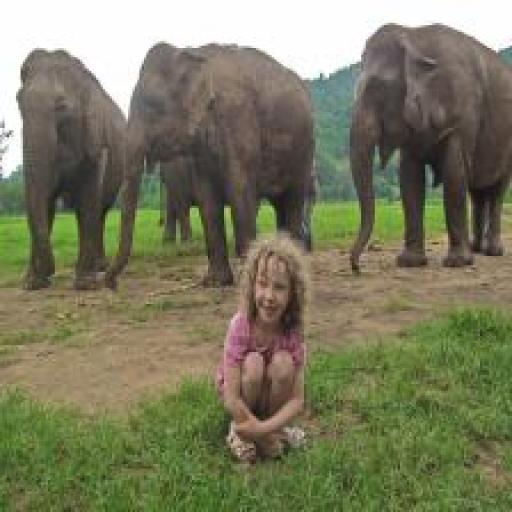Elephant: (105, 41, 318, 286), (347, 20, 512, 276), (16, 48, 127, 291)
